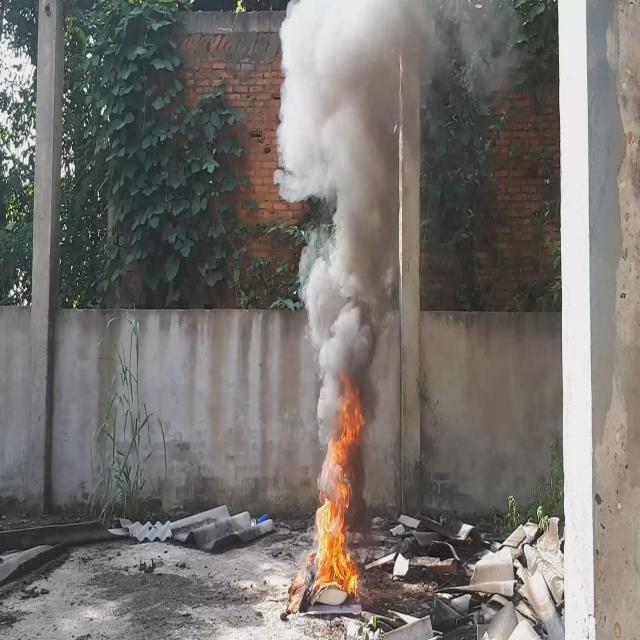Fire: (314, 372, 369, 600)
Smoke: (273, 0, 443, 444)
